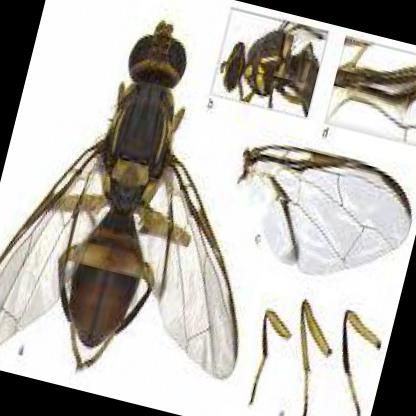fruit fly: (0, 20, 238, 382)
